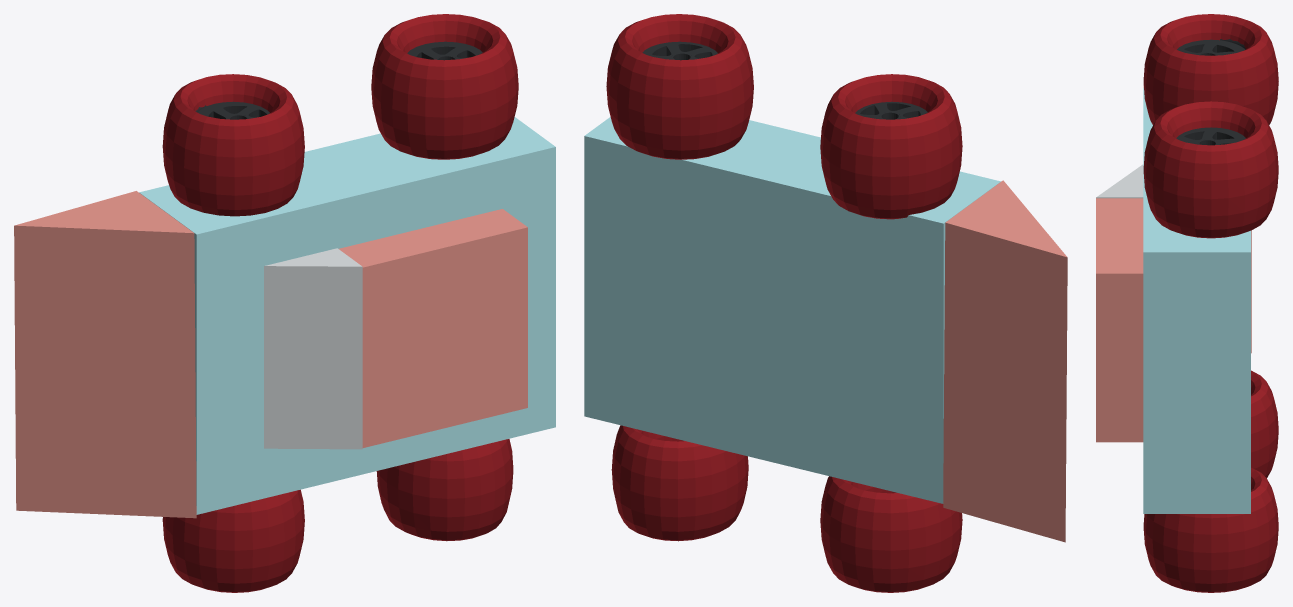
File: tinker.obj
3 renders of one model, left to right at view 1: azimuth 30°, elevation 25°; view 2: azimuth 150°, elevation 25°; view 3: azimuth 270°, elevation 25°, orthographic. The views are drawn at different scales.
Visible parts, largest first — view 1: group_0_15308428, group_0_11593967, group_0_9771553, group_0_14541540, group_0_2829873; view 2: group_0_11593967, group_0_9771553, group_0_15308428, group_0_2829873; view 3: group_0_9771553, group_0_11593967, group_0_15308428, group_0_2829873, group_0_14541540.
Boxes of the visible parts, x1,y1,x2,y2 form: group_0_15308428: (14, 191, 527, 518); group_0_11593967: (139, 117, 555, 514); group_0_9771553: (162, 14, 518, 592); group_0_14541540: (264, 248, 362, 449); group_0_2829873: (195, 41, 482, 119); group_0_11593967: (584, 117, 1000, 503); group_0_9771553: (606, 14, 962, 592); group_0_15308428: (943, 180, 1067, 542); group_0_2829873: (642, 41, 927, 119); group_0_9771553: (1143, 14, 1278, 592); group_0_11593967: (1143, 88, 1250, 513); group_0_15308428: (1096, 86, 1251, 442); group_0_2829873: (1176, 39, 1245, 145); group_0_14541540: (1096, 164, 1143, 198).
Size of the model in its own units: 211 by 201 by 74.
